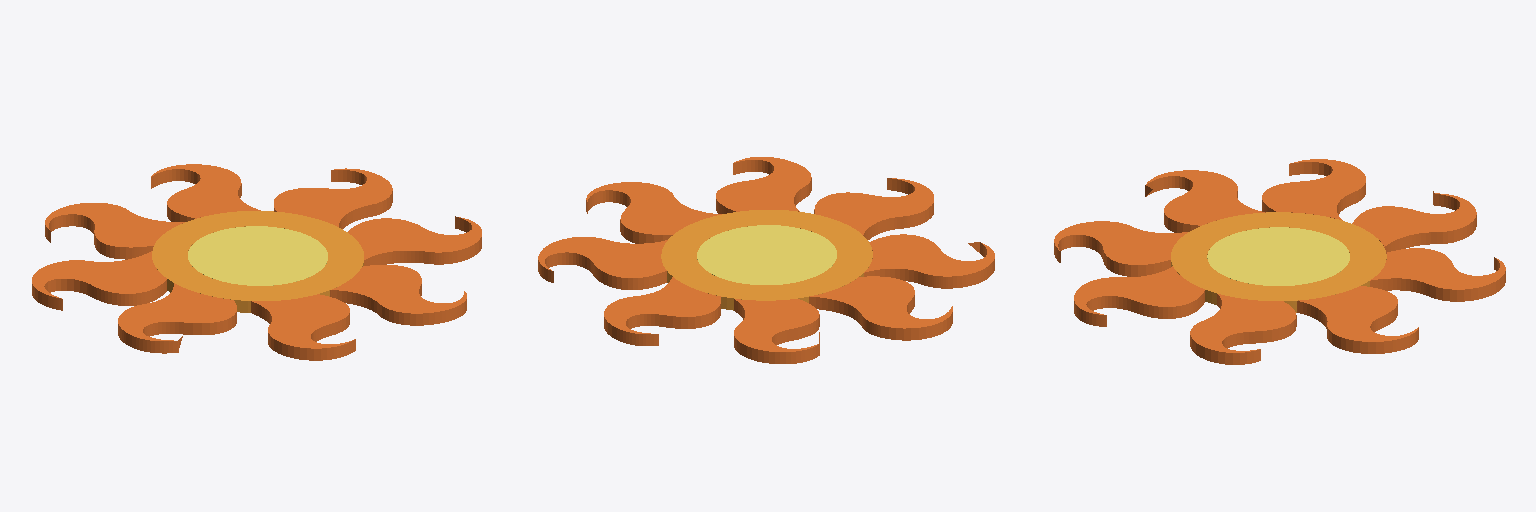
File: celestia.obj
3 views of the same model, side by side, from view 1: azimuth 30°, elevation 25°; view 2: azimuth 150°, elevation 25°; view 3: azimuth 270°, elevation 25° (orthographic).
Parts seen in each view (by area): view 1: path6; view 2: path6; view 3: path6.
Part boxes in pixels (x1,y1,x2,y2): path6: (32,164,481,360); path6: (538,157,994,363); path6: (1054,159,1505,364).
Size of the model in its own units: 0.3447 by 0.02 by 0.3394.